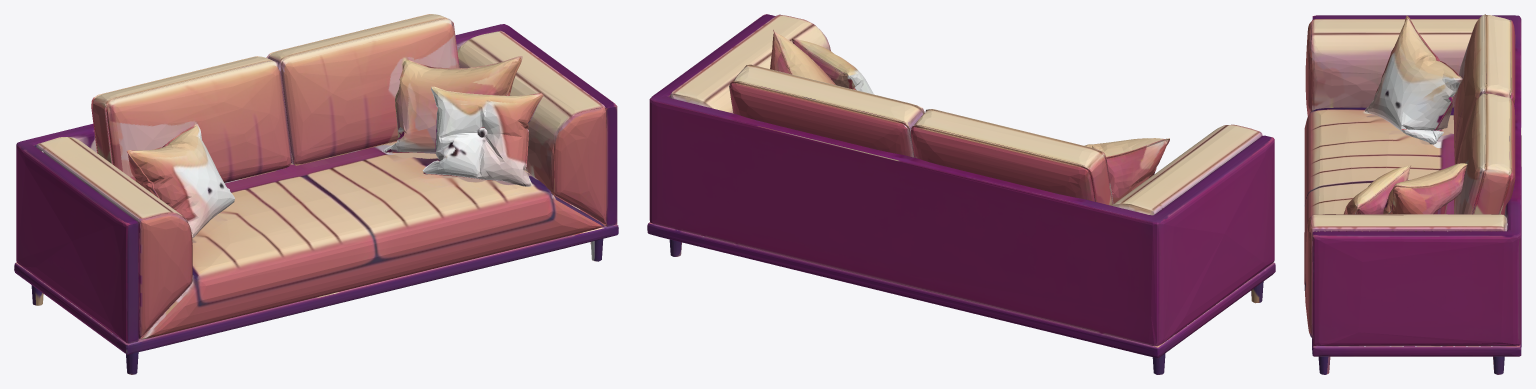
The model's file is edited_mesh.glb.
The picture shows the model from 3 angles, left to right: view 1: azimuth 30°, elevation 25°; view 2: azimuth 150°, elevation 25°; view 3: azimuth 270°, elevation 25°; orthographic projection. The views are drawn at different scales.
Parts seen in each view (by area): view 1: solid_001_wire; view 2: solid_001_wire; view 3: solid_001_wire.
Part boxes in pixels (left/top/right/bottom): solid_001_wire: left=14, top=14, right=618, bottom=374; solid_001_wire: left=647, top=14, right=1275, bottom=374; solid_001_wire: left=1304, top=14, right=1521, bottom=374.
Size of the model in its own units: 2 by 0.7464 by 0.8192.
1 material, 1 textured.
